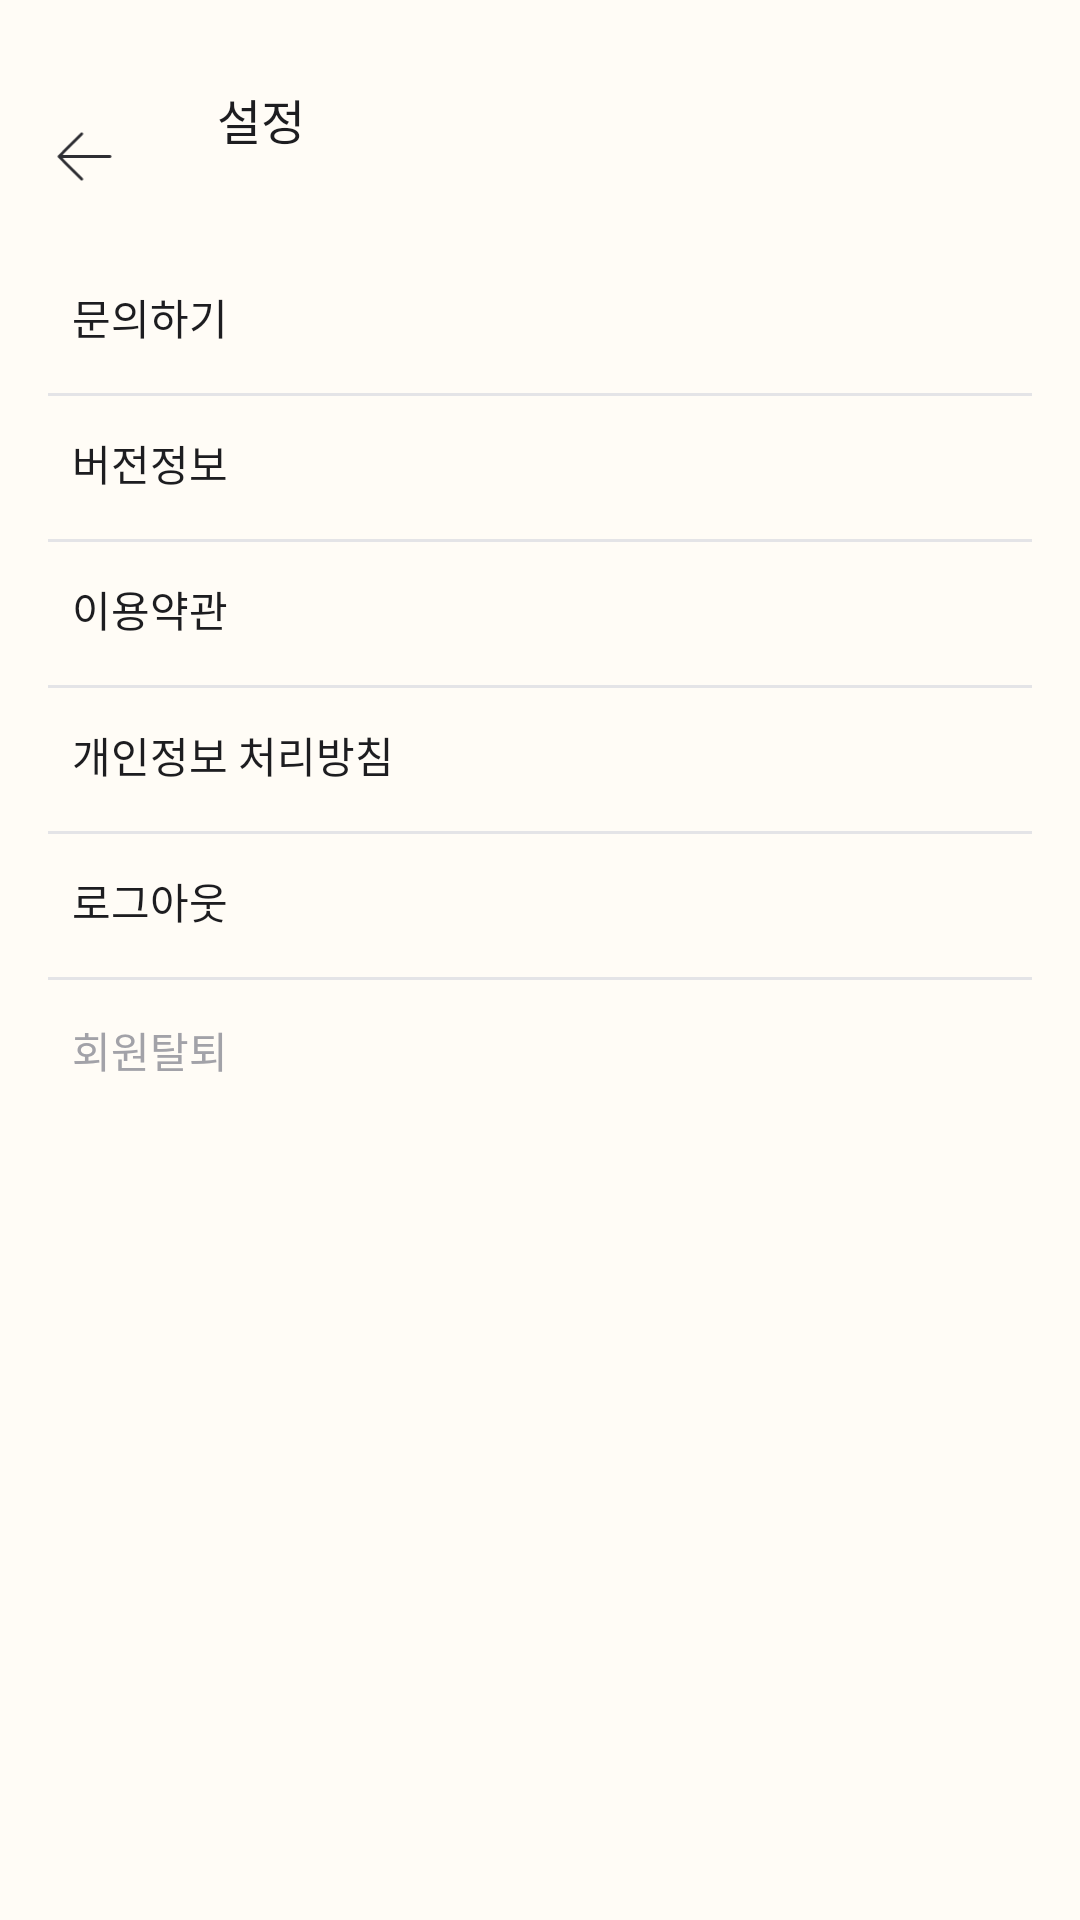

Icon bounding boxes for this 1080px x 1920px phone screenshot, format (x1, y1, x2, y2):
back: (57, 132, 112, 181)
